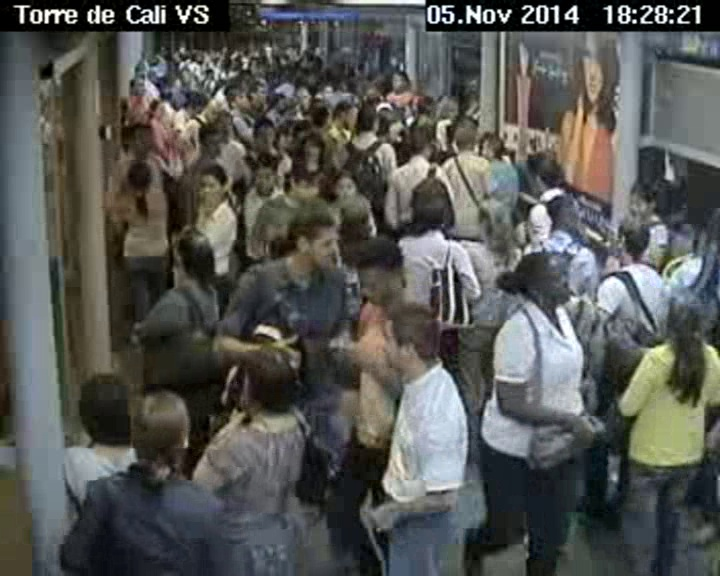person: (224, 336, 311, 434), (126, 387, 196, 479), (489, 243, 570, 315), (378, 297, 447, 380), (69, 372, 141, 444), (342, 236, 410, 308), (650, 279, 709, 350), (280, 203, 341, 270), (164, 225, 222, 290), (406, 174, 453, 238), (472, 192, 515, 254), (603, 213, 652, 260), (522, 147, 567, 194), (194, 162, 233, 211), (544, 189, 584, 231), (626, 178, 660, 222), (397, 126, 438, 160), (250, 149, 278, 194), (449, 115, 479, 153), (330, 166, 359, 201), (374, 109, 402, 145), (194, 126, 224, 158), (124, 121, 152, 155), (275, 118, 303, 151), (308, 103, 338, 133), (125, 162, 154, 193), (225, 84, 252, 115), (352, 101, 378, 133), (252, 116, 275, 148), (476, 132, 504, 158), (301, 136, 325, 165), (387, 71, 410, 93), (149, 98, 168, 122), (126, 75, 147, 92)
